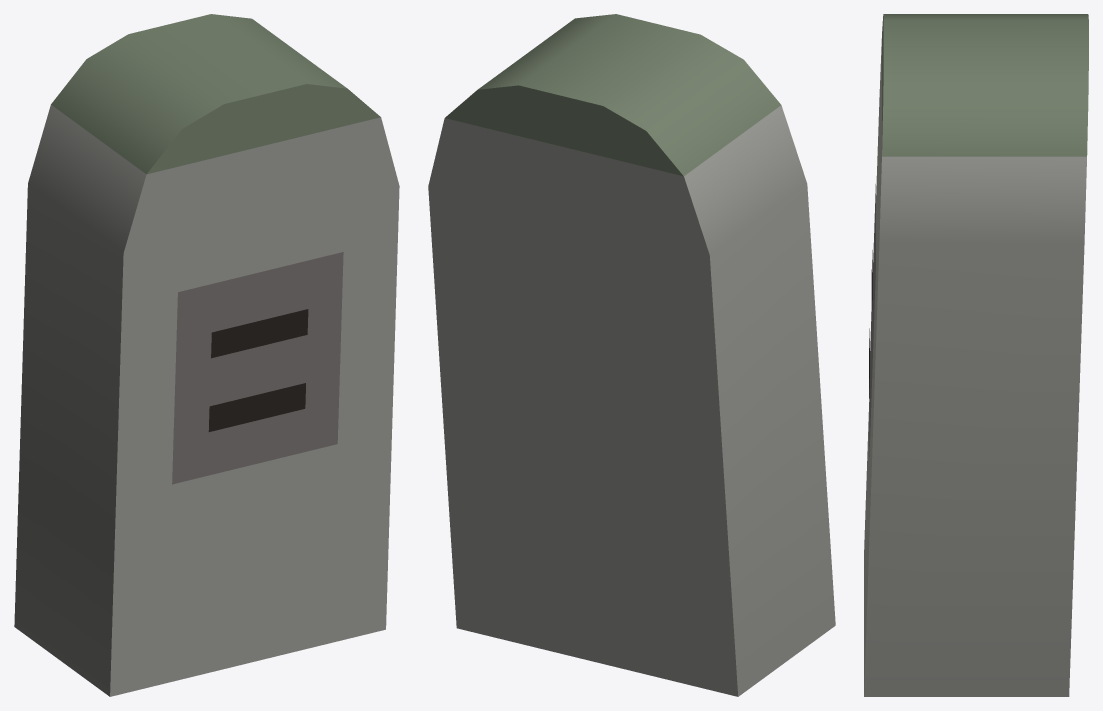
The model's file is Milestone.fbx.
3 renders of one model, left to right at view 1: azimuth 30°, elevation 25°; view 2: azimuth 150°, elevation 25°; view 3: azimuth 270°, elevation 25°, orthographic. The views are drawn at different scales.
Visible parts, largest first — view 1: Milestone; view 2: Milestone; view 3: Milestone.
Part boxes in pixels (bbox=[...]): Milestone: bbox=[14, 14, 399, 696]; Milestone: bbox=[428, 14, 835, 696]; Milestone: bbox=[864, 14, 1088, 696].
Size of the model in its own units: 0.43 by 0.77 by 0.2631.
